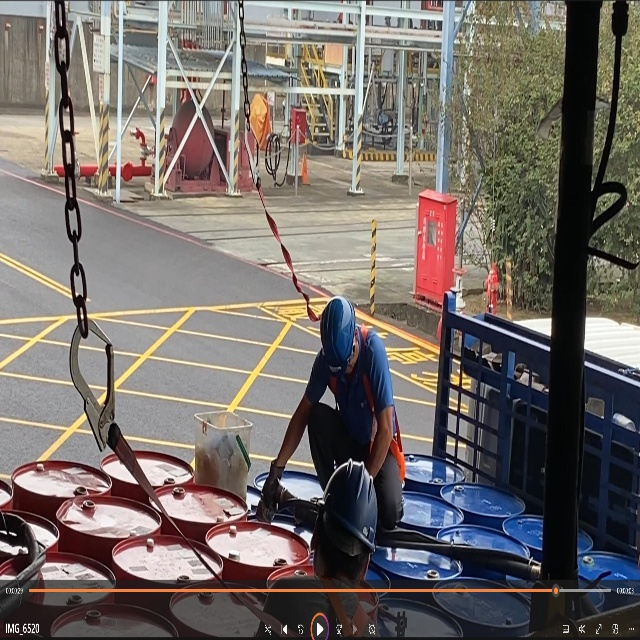Arnes_seguridad: (325, 326, 406, 493)
